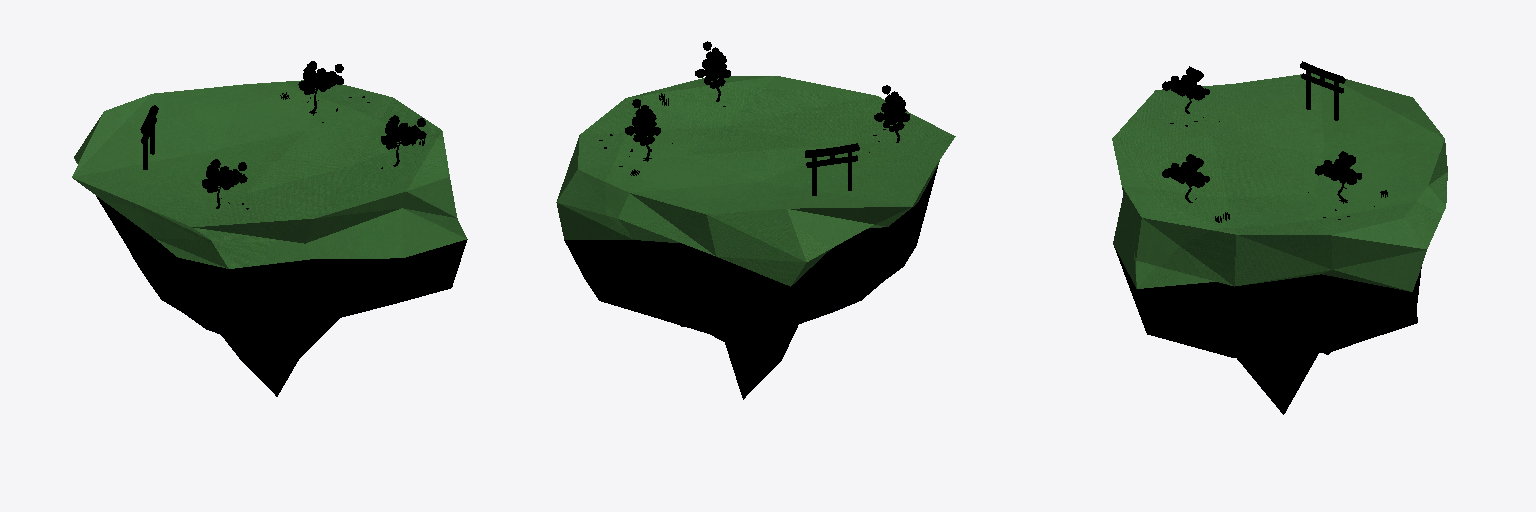
The picture shows the model from 3 angles: view 1: azimuth 30°, elevation 25°; view 2: azimuth 150°, elevation 25°; view 3: azimuth 270°, elevation 25°; orthographic projection.
Visible parts, largest first — view 1: polySurface128; view 2: polySurface128; view 3: polySurface128.
Part boxes in pixels (x1,y1,x2,y2): polySurface128: (72,61,467,396); polySurface128: (556,41,955,399); polySurface128: (1112,61,1447,414).
Bounding box in the file's own units: 215 × 185 × 190.
11 materials, 7 textured.